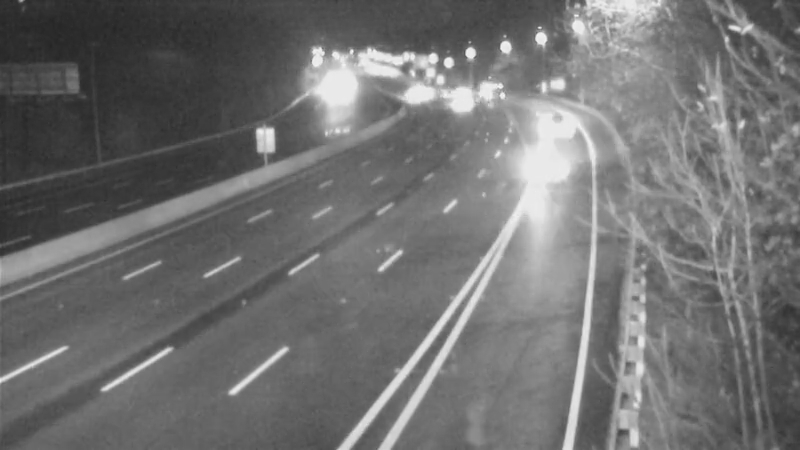vehicle: (524, 135, 604, 215), (460, 67, 510, 117), (436, 76, 486, 126), (531, 98, 581, 148)
